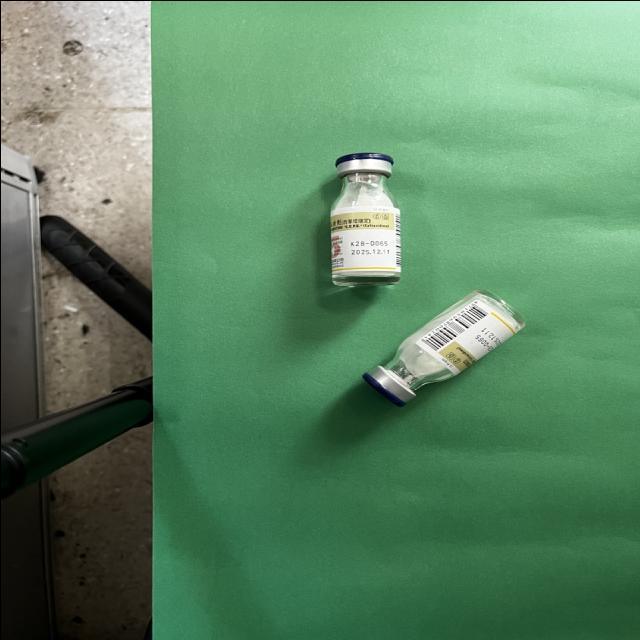Vials: (362, 290, 523, 404), (329, 152, 399, 285)
